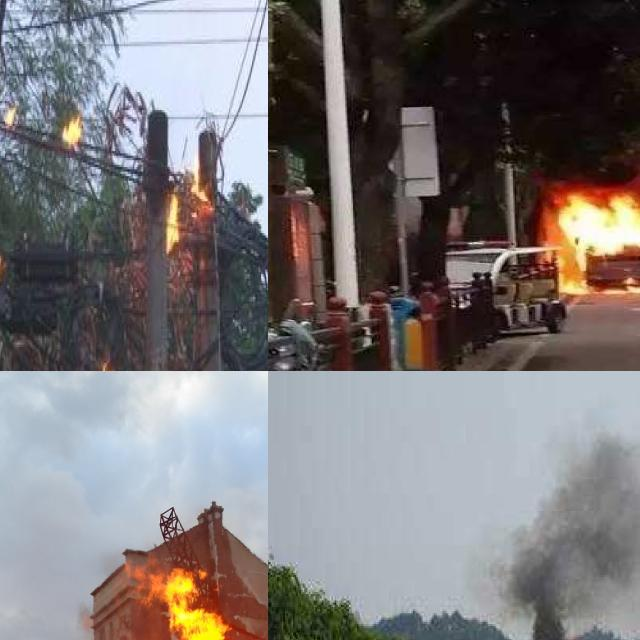fire: (554, 181, 640, 294), (162, 178, 185, 260), (189, 151, 210, 206), (60, 112, 83, 156), (93, 353, 118, 371), (0, 100, 15, 128), (0, 244, 5, 296)
smoke: (471, 371, 640, 640)
